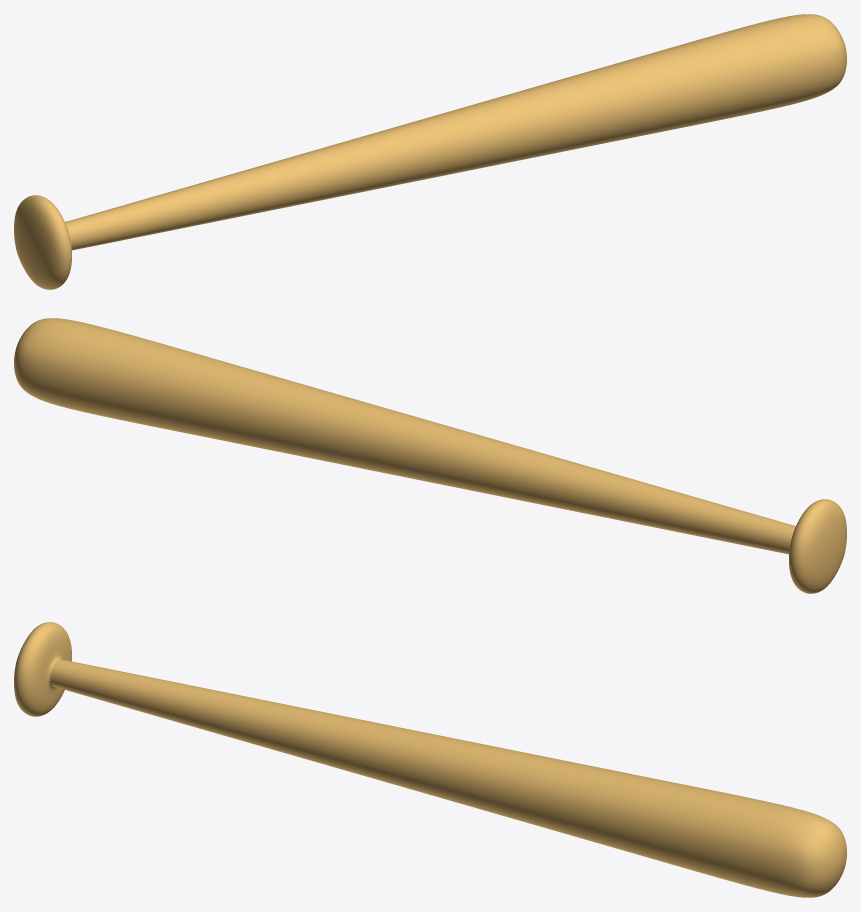
The model's file is Stick.FBX.
3 renders of one model, top to bottom at view 1: azimuth 30°, elevation 25°; view 2: azimuth 150°, elevation 25°; view 3: azimuth 330°, elevation 25°, orthographic.
Parts seen in each view (by area): view 1: Cylinder001; view 2: Cylinder001; view 3: Cylinder001.
Boxes of the visible parts, <box> form: Cylinder001: <box>14,14,846,289</box>; Cylinder001: <box>14,318,846,593</box>; Cylinder001: <box>14,622,846,897</box>.
Bounding box in the file's own units: 96.14 × 9.96 × 9.89.
